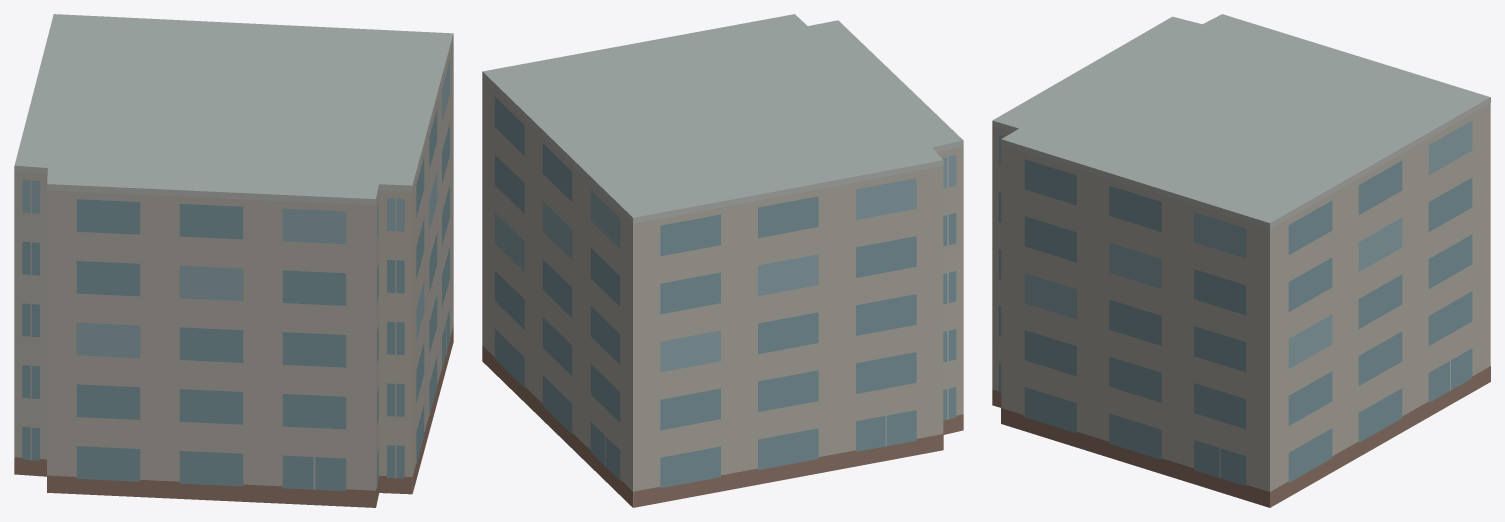
Rendered from survey-upis-33035978.glb.
3 views of the same model, side by side, from view 1: azimuth 30°, elevation 25°; view 2: azimuth 150°, elevation 25°; view 3: azimuth 270°, elevation 25° (orthographic). The views are drawn at different scales.
Parts seen in each view (by area): view 1: survey-upis-33035978.tmp; view 2: survey-upis-33035978.tmp; view 3: survey-upis-33035978.tmp.
Part boxes in pixels (left/top/right/bottom): survey-upis-33035978.tmp: left=14, top=14, right=453, bottom=507; survey-upis-33035978.tmp: left=482, top=14, right=963, bottom=507; survey-upis-33035978.tmp: left=992, top=14, right=1490, bottom=507.
Size of the model in its own units: 19.06 by 12.09 by 19.19.
